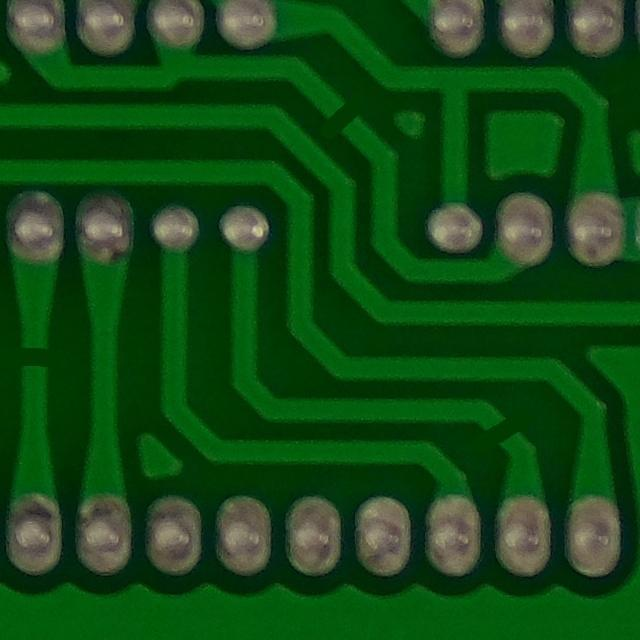open_circuit: (469, 411, 535, 454), (312, 93, 376, 136), (10, 332, 59, 379)
